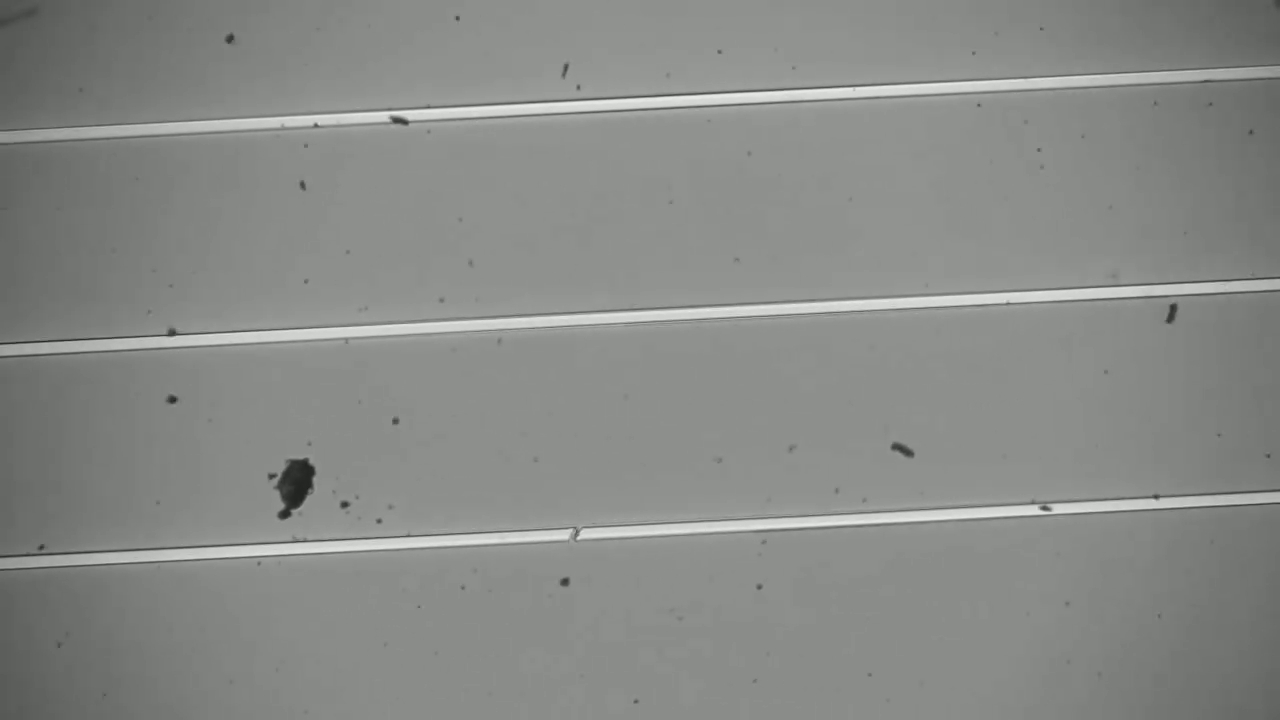open: (558, 520, 591, 549)
stains_enbedded: (384, 99, 422, 138), (1038, 495, 1061, 524)
